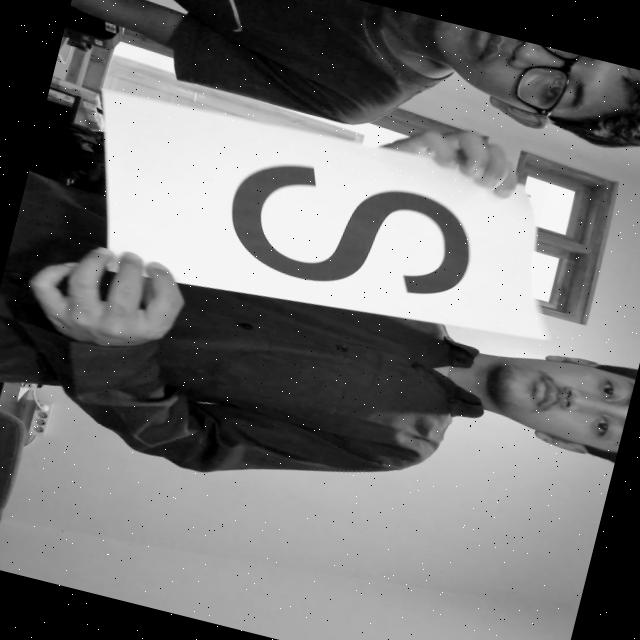s: (205, 142, 496, 326)
